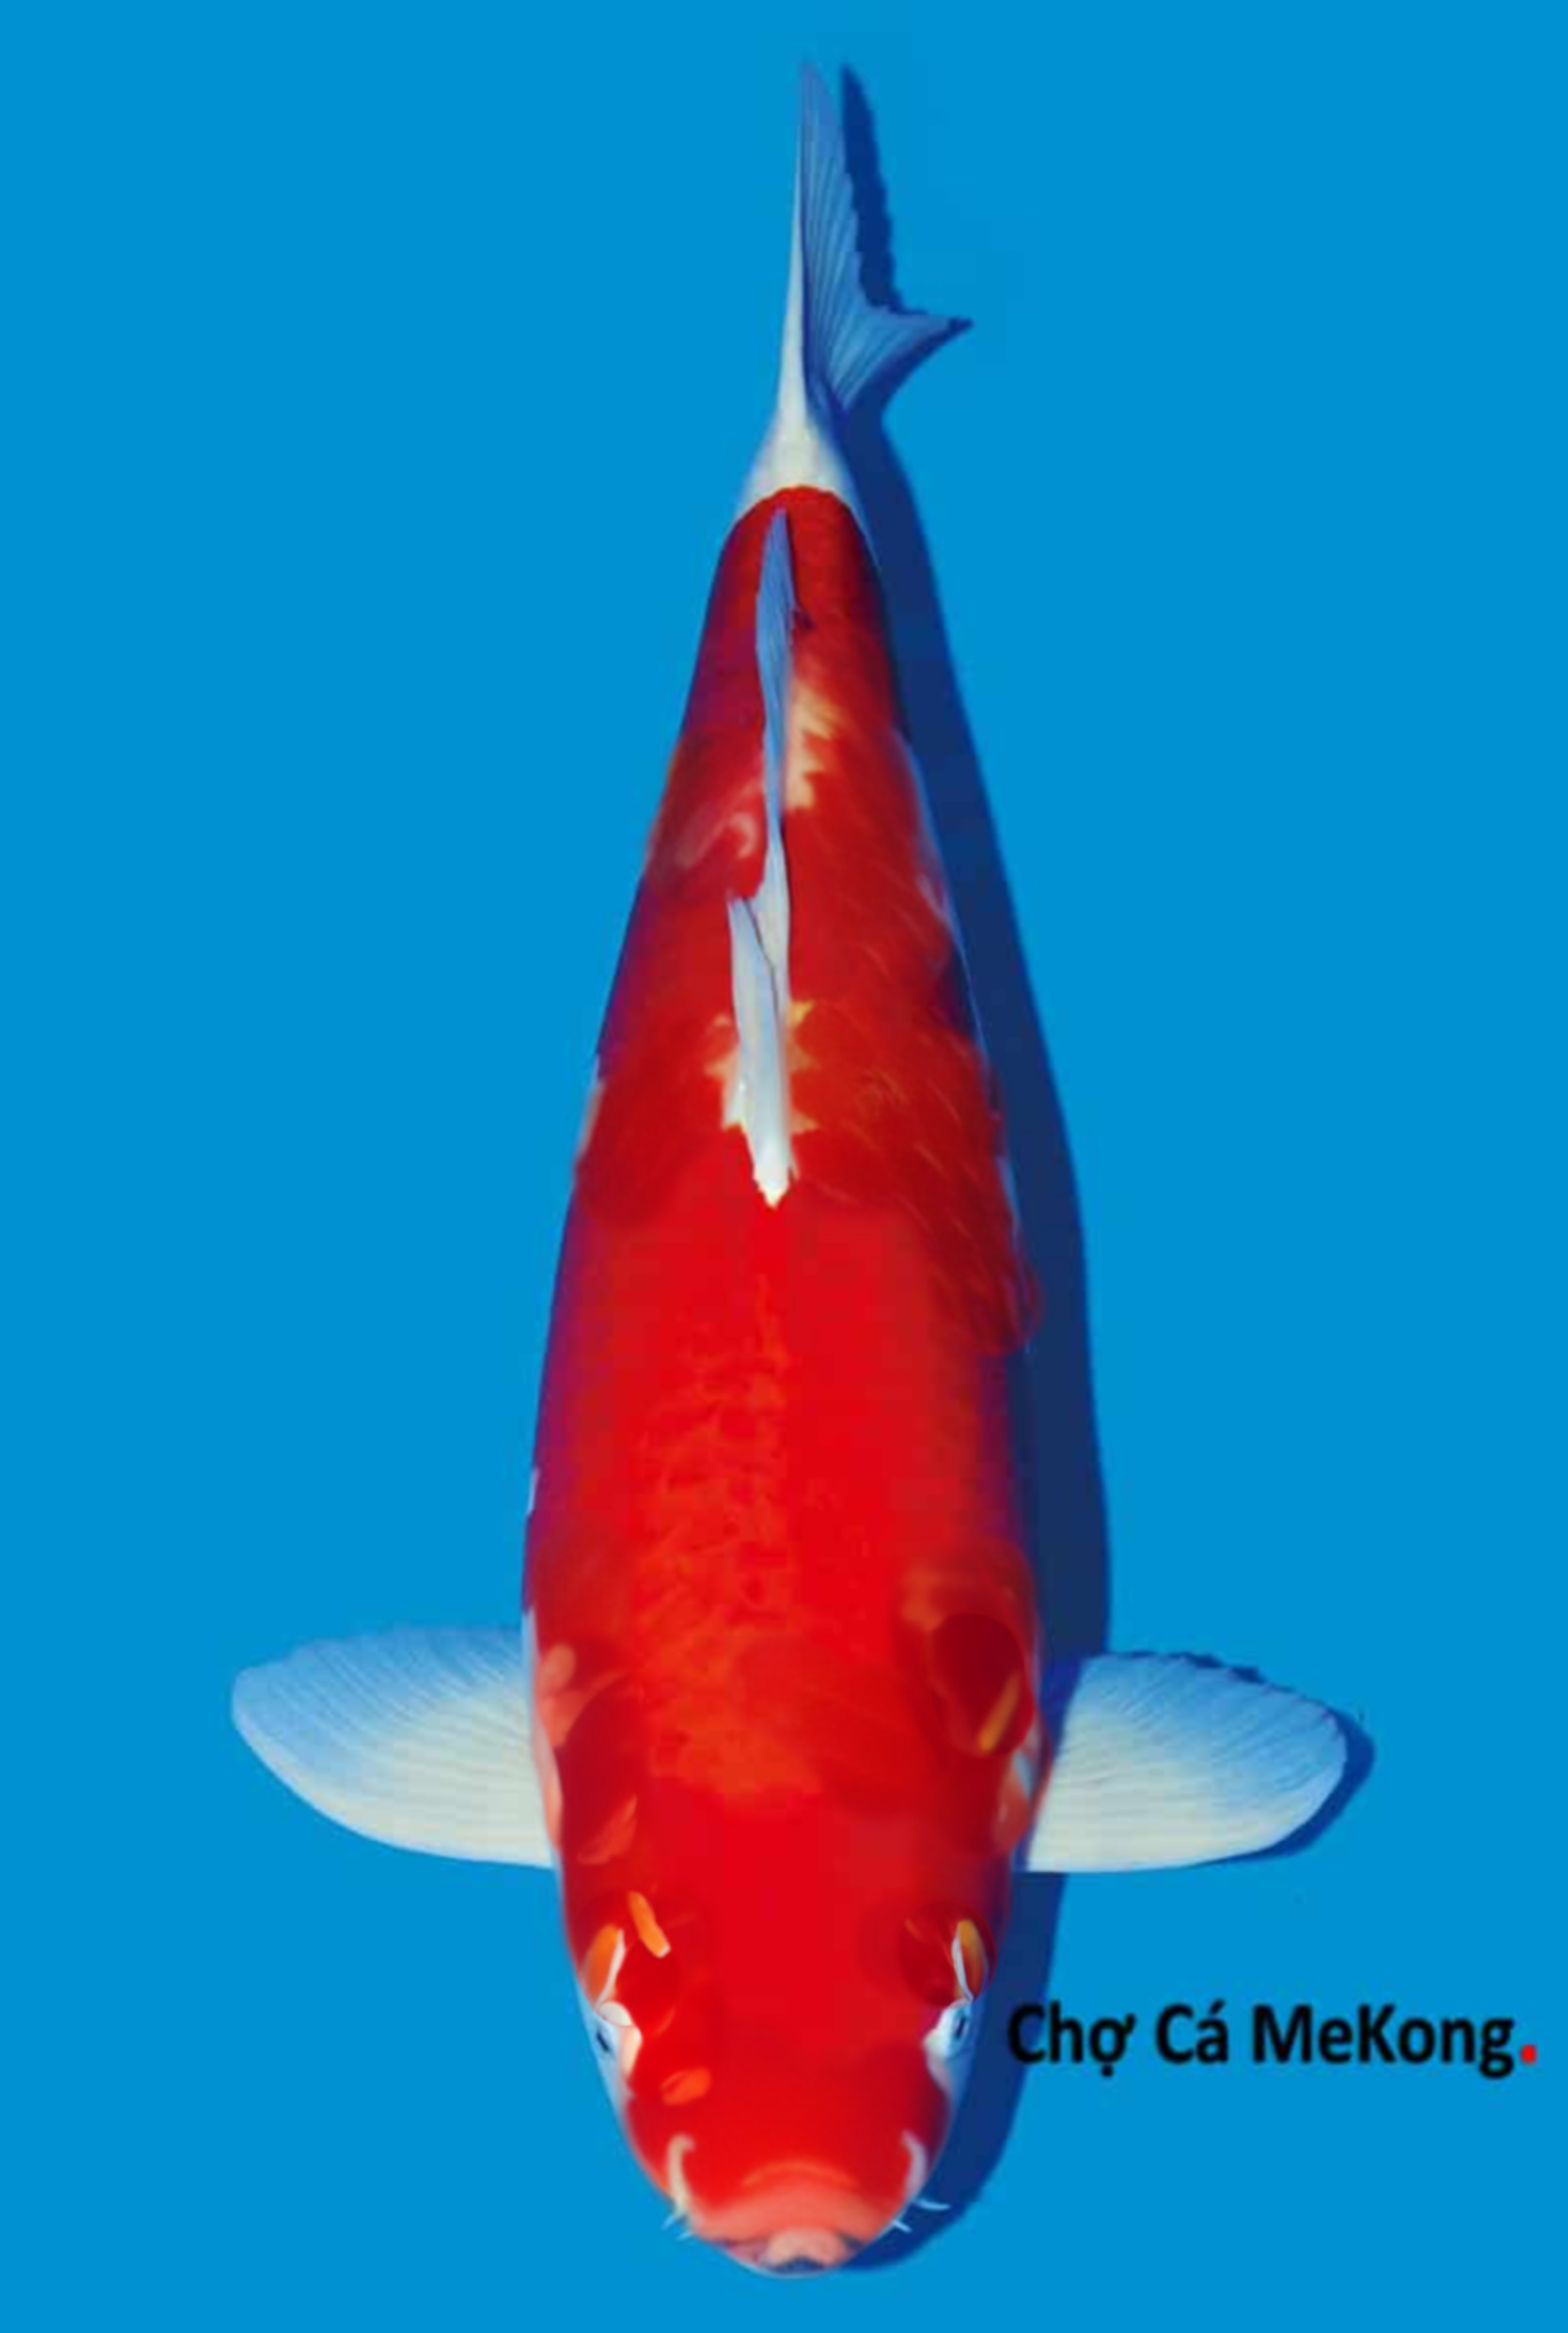red: (231, 49, 1351, 2277)
